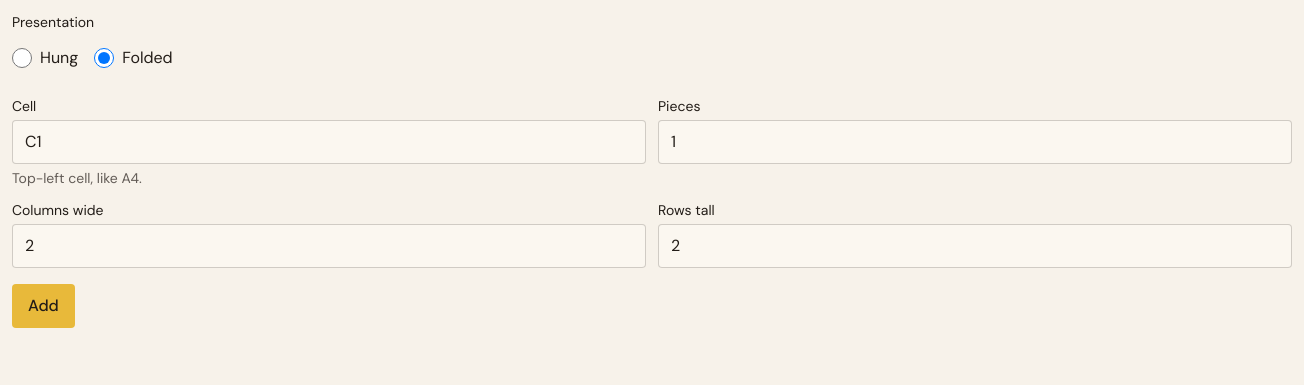
Test case: PlacementForm › shows the server's refusal beside the fields
Click the button "Add".
click(43, 306)  # box [12,284,75,328]
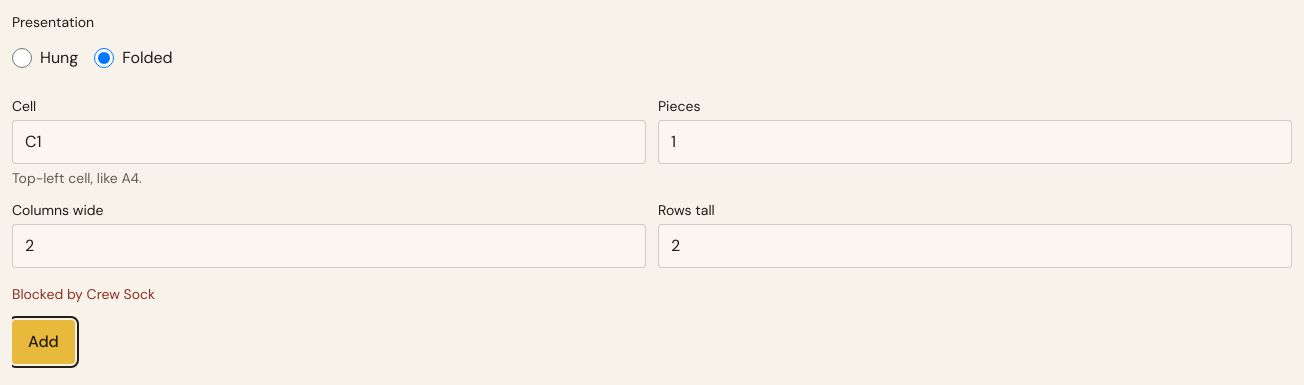
Now the message reads "Blocked by Crew Sock", box [12,285,155,303]
